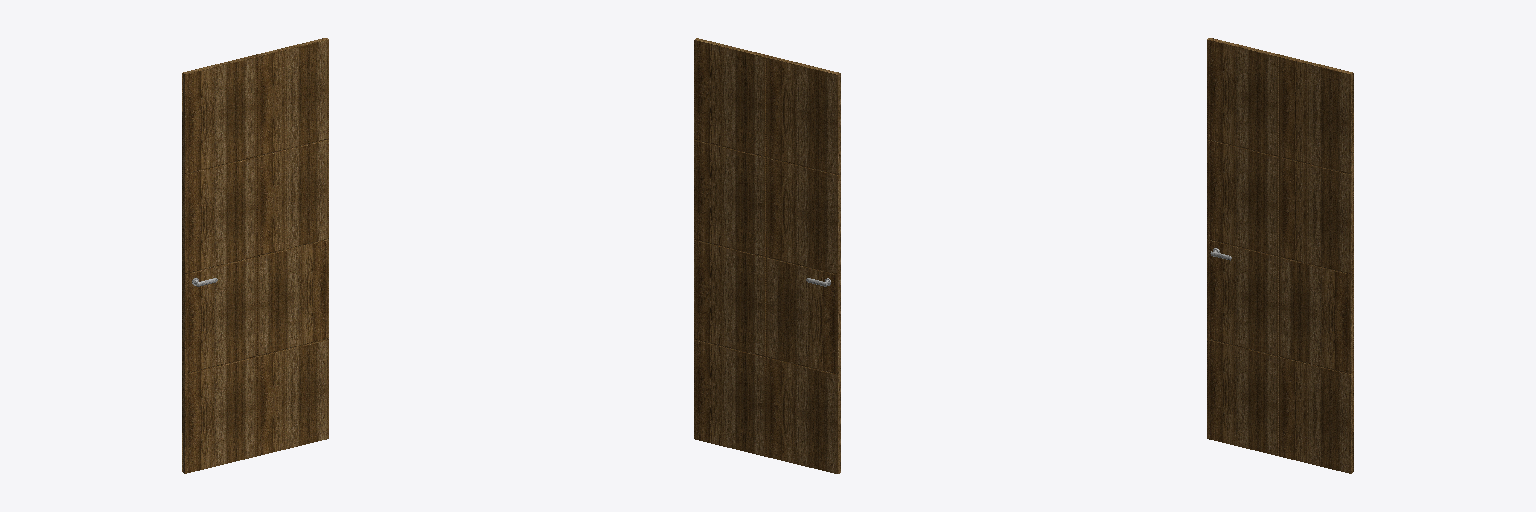
The picture shows the model from 3 angles: view 1: azimuth 30°, elevation 25°; view 2: azimuth 150°, elevation 25°; view 3: azimuth 330°, elevation 25°; orthographic projection.
Parts seen in each view (by area): view 1: group puertatt:doorpasted__pasted__pasted__grouppasted__pasted__; view 2: group puertatt:doorpasted__pasted__pasted__grouppasted__pasted__; view 3: group puertatt:doorpasted__pasted__pasted__grouppasted__pasted__.
Boxes of the visible parts, x1=… form: group puertatt:doorpasted__pasted__pasted__grouppasted__pasted__: x1=182, y1=38, x2=328, y2=473; group puertatt:doorpasted__pasted__pasted__grouppasted__pasted__: x1=694, y1=38, x2=840, y2=473; group puertatt:doorpasted__pasted__pasted__grouppasted__pasted__: x1=1207, y1=38, x2=1353, y2=473.
Bounding box in the file's own units: 12.23 × 32.46 × 1.67.
2 materials, 2 textured.